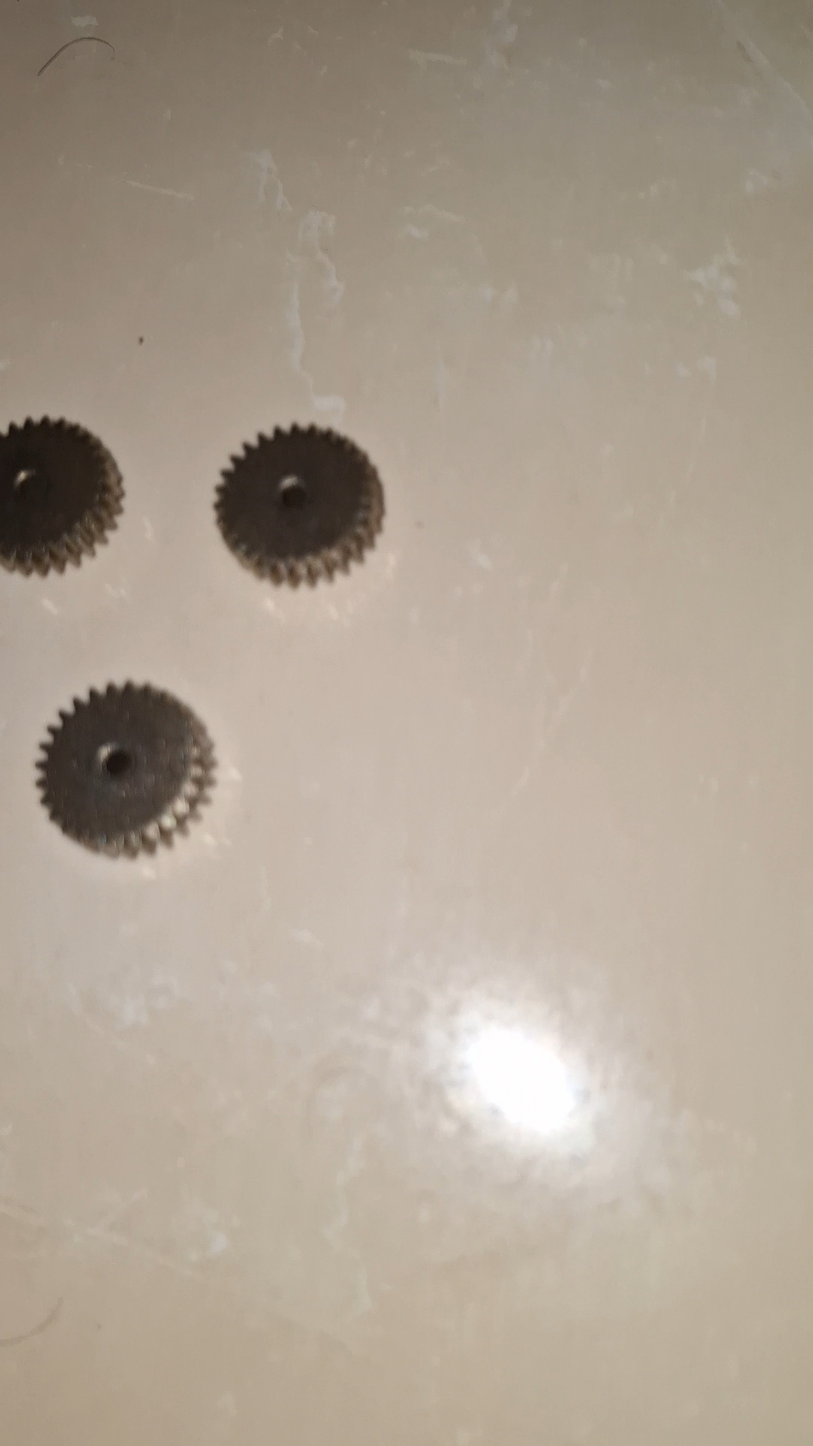spur gear: (37, 683, 213, 856), (216, 425, 383, 586), (0, 418, 123, 574)
